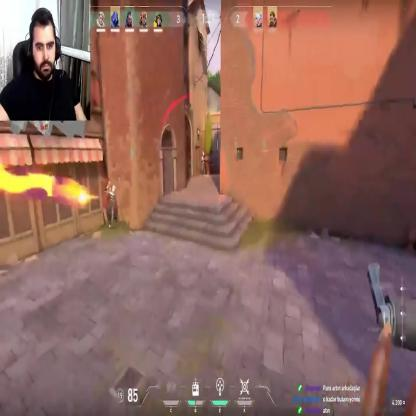enemy: (104, 179, 118, 230), (199, 150, 205, 175)
enemy_head: (107, 179, 112, 190), (202, 151, 205, 157)
